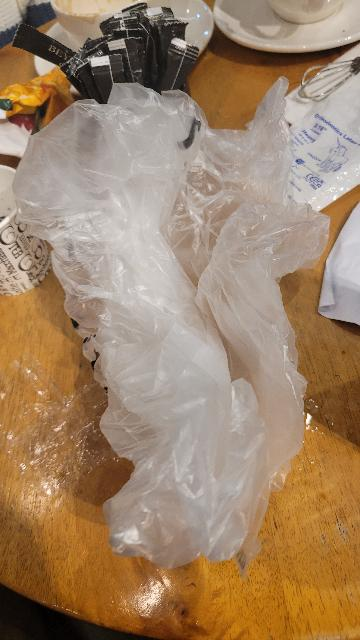Plastik: (21, 85, 329, 584)
